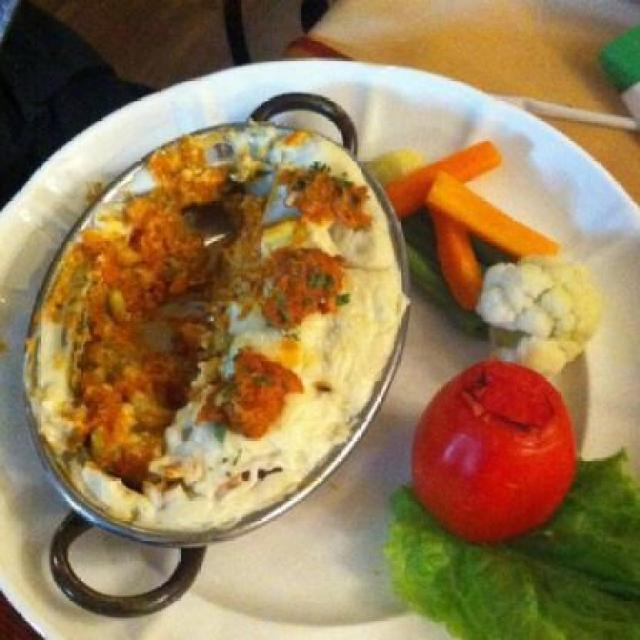Lasagna: (47, 108, 370, 487)
